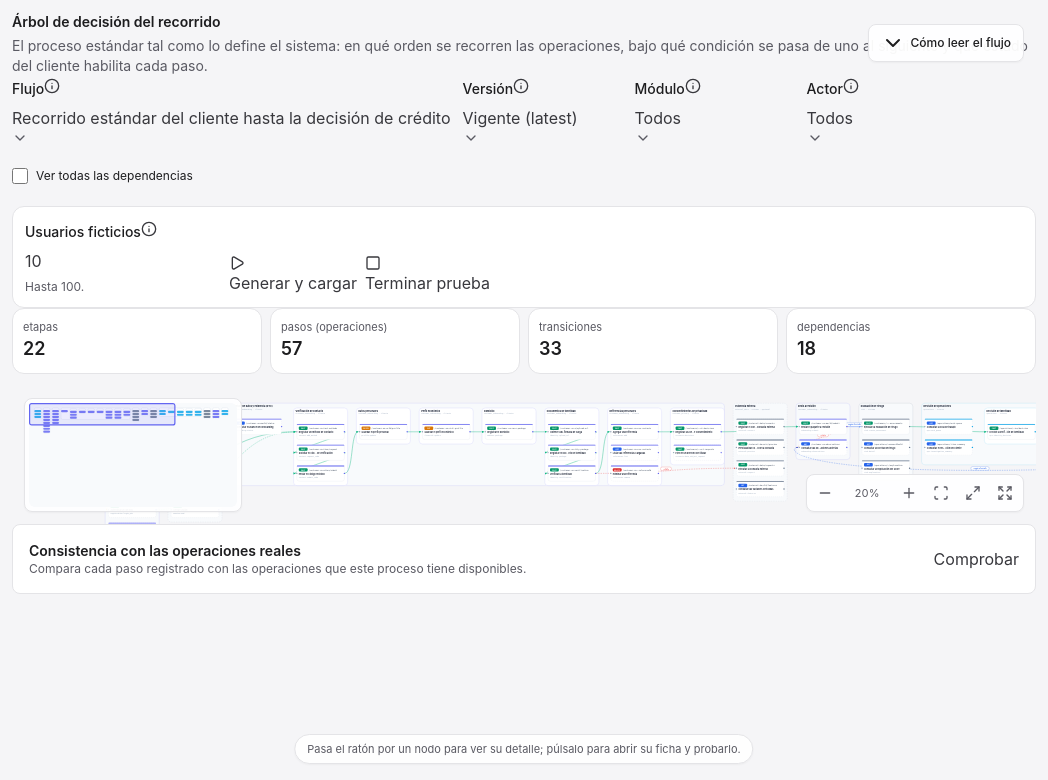
Test: árbol · prueba de carga con usuarios ficticios › si el servidor bloquea la preparación, dice por qué y no lanza
Click the button "Generar y cargar" at (293, 275), box 229,255 -> 357,295
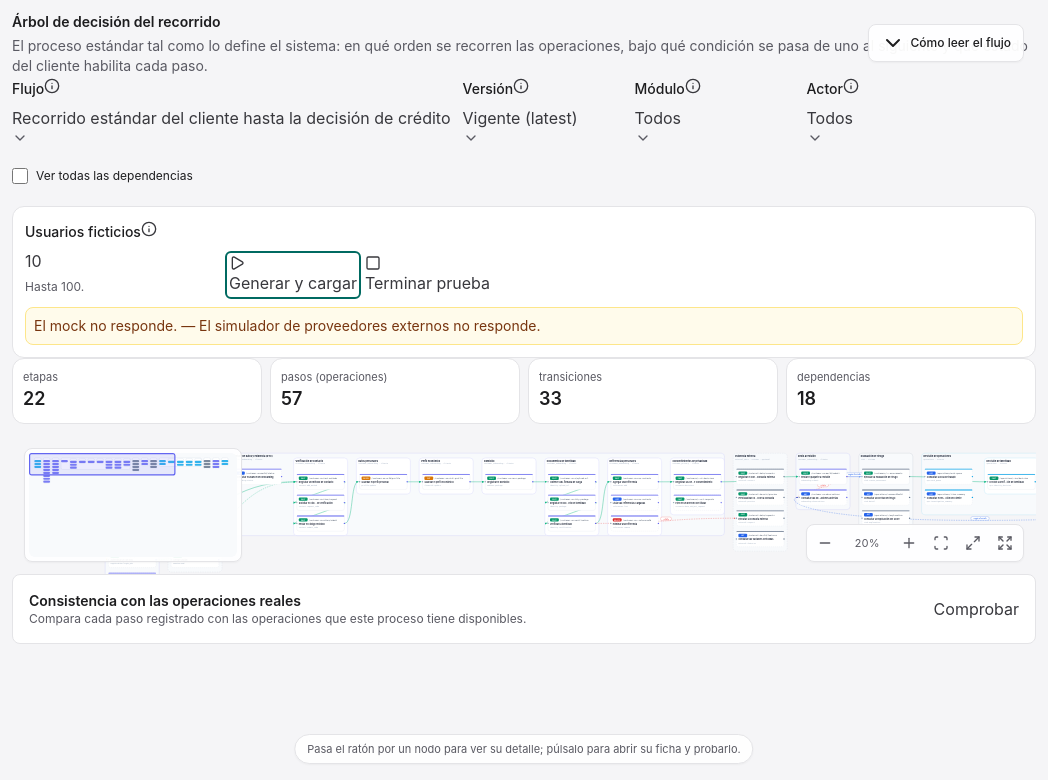
Now the message shows "El mock no responde.", box 34,317 -> 540,334
